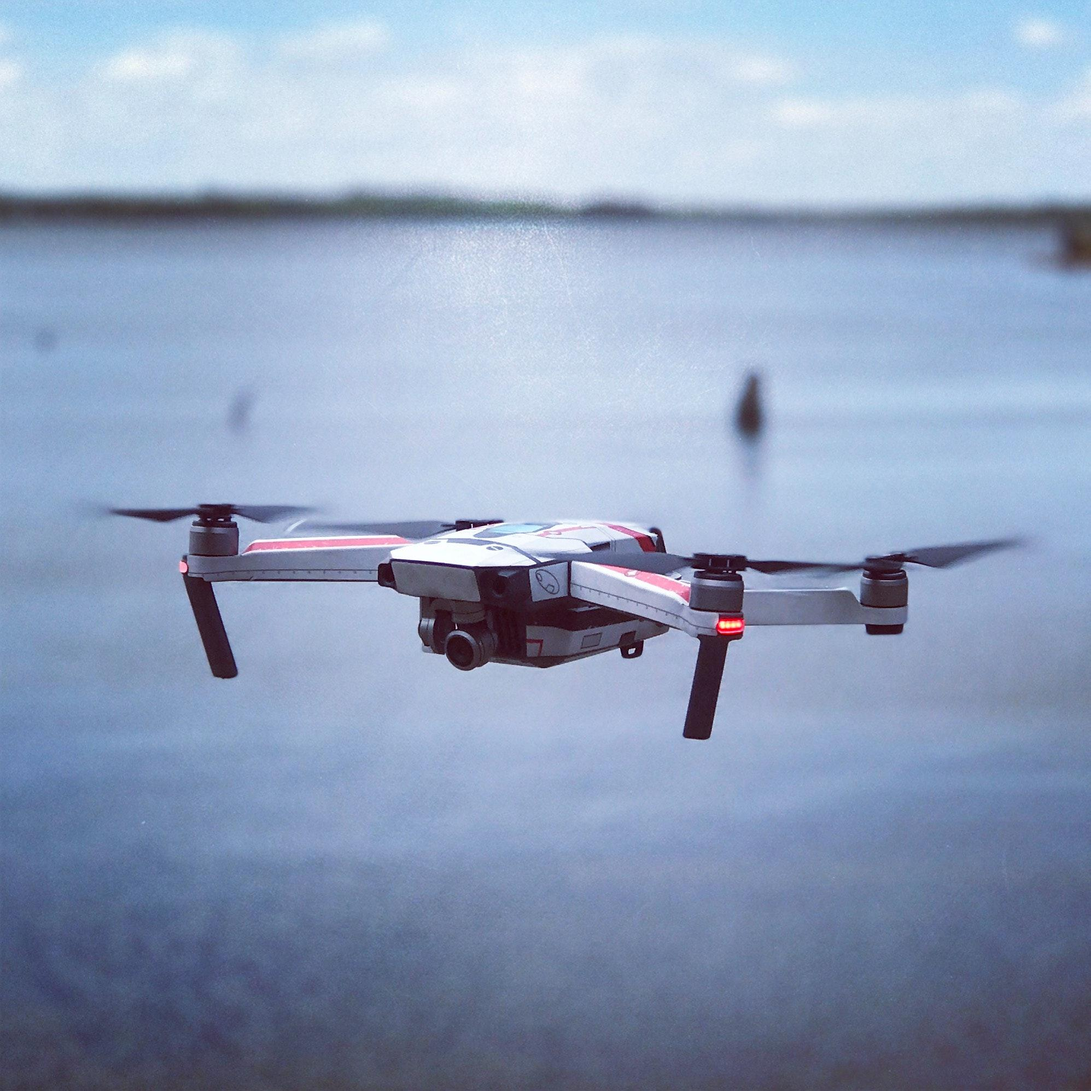drone_other: (68, 489, 1050, 747)
